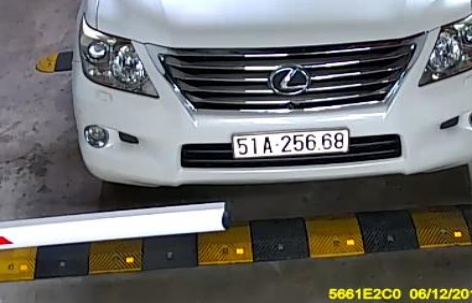plate: (229, 126, 351, 159)
